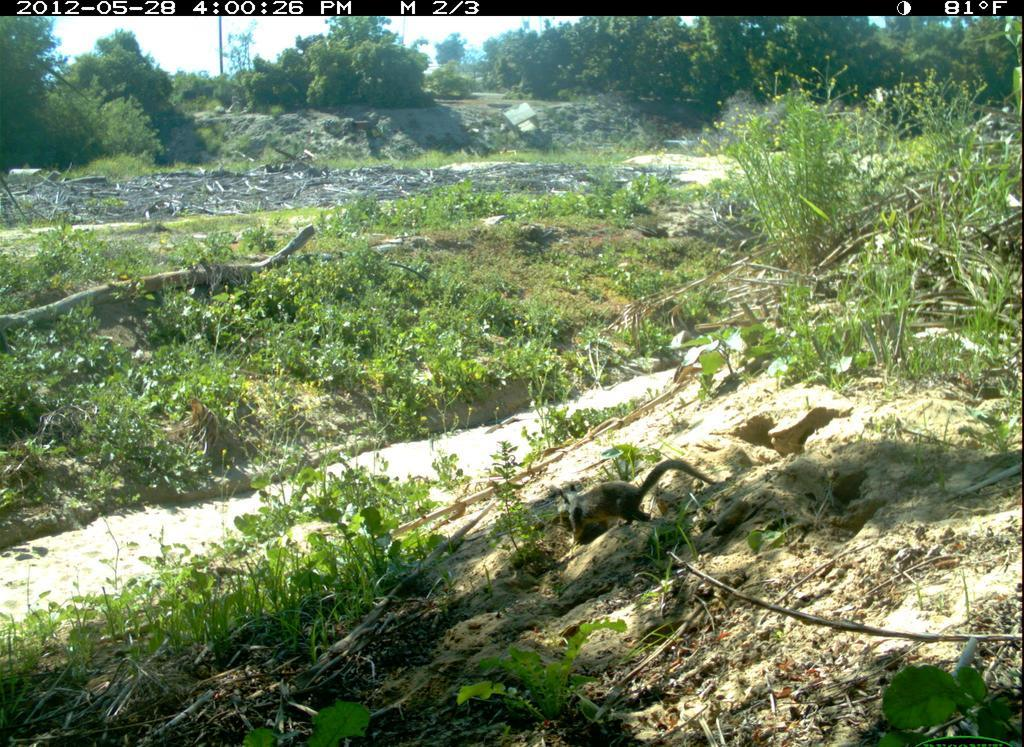squirrel: (550, 454, 727, 551)
